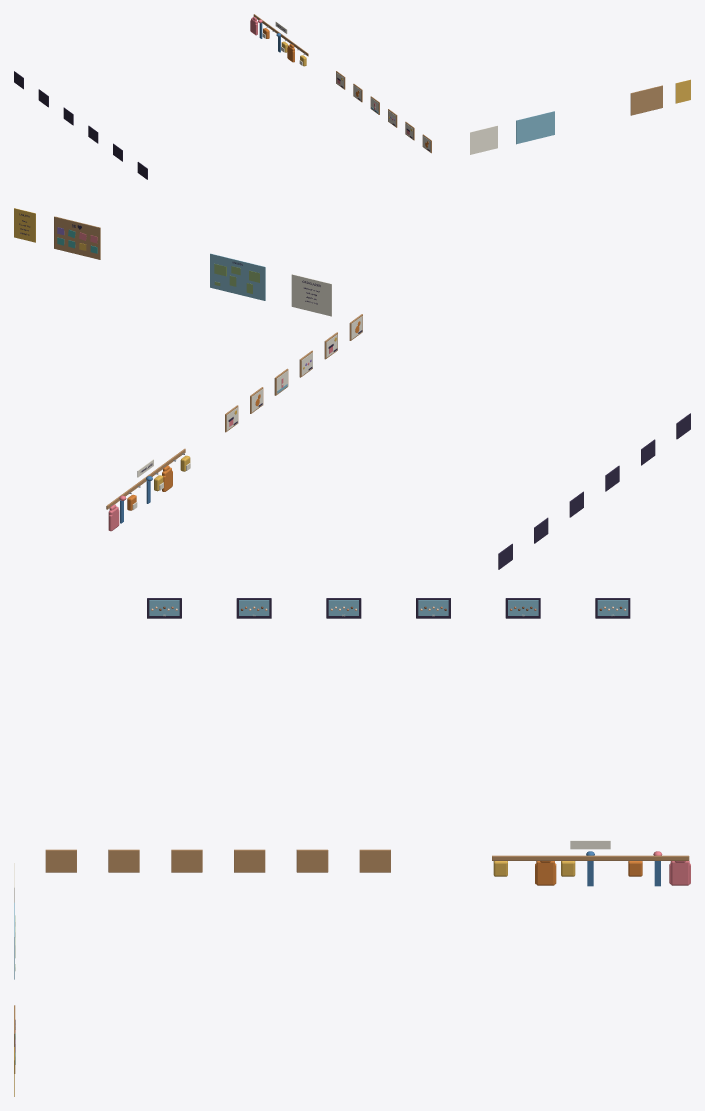
The model's file is school-details.glb.
3 views of the same model, one above another, from view 1: azimuth 30°, elevation 25°; view 2: azimuth 150°, elevation 25°; view 3: azimuth 270°, elevation 25° (orthographic). The views are drawn at different scales.
Visible parts, largest first — view 1: SchoolDetails_paper, SchoolDetails_map_sea, SchoolDetails_ink, SchoolDetails_cork, SchoolDetails_j3, SchoolDetails_frame; view 2: SchoolDetails_paper, SchoolDetails_ink, SchoolDetails_map_sea, SchoolDetails_cork, SchoolDetails_j3, SchoolDetails_frame; view 3: SchoolDetails_frame, SchoolDetails_map_sea, SchoolDetails_ink, SchoolDetails_wood, SchoolDetails_j6.
Part boxes in pixels (left/top/right/bottom): SchoolDetails_paper: left=262, top=21, right=497, bottom=154; SchoolDetails_map_sea: left=371, top=107, right=554, bottom=144; SchoolDetails_ink: left=14, top=25, right=429, bottom=179; SchoolDetails_cork: left=630, top=85, right=662, bottom=115; SchoolDetails_j3: left=281, top=41, right=690, bottom=131; SchoolDetails_frame: left=336, top=71, right=431, bottom=153; SchoolDetails_paper: left=132, top=274, right=362, bottom=509; SchoolDetails_ink: left=19, top=213, right=690, bottom=569; SchoolDetails_map_sea: left=210, top=253, right=287, bottom=393; SchoolDetails_cork: left=54, top=216, right=100, bottom=259; SchoolDetails_j3: left=14, top=208, right=336, bottom=491; SchoolDetails_frame: left=225, top=314, right=362, bottom=432; SchoolDetails_frame: left=45, top=849, right=390, bottom=872; SchoolDetails_map_sea: left=14, top=600, right=628, bottom=979; SchoolDetails_ink: left=15, top=598, right=630, bottom=1029; SchoolDetails_wood: left=492, top=855, right=689, bottom=860; SchoolDetails_j6: left=535, top=861, right=642, bottom=885.
Size of the model in its own units: 23.65 by 1.55 by 15.09.
